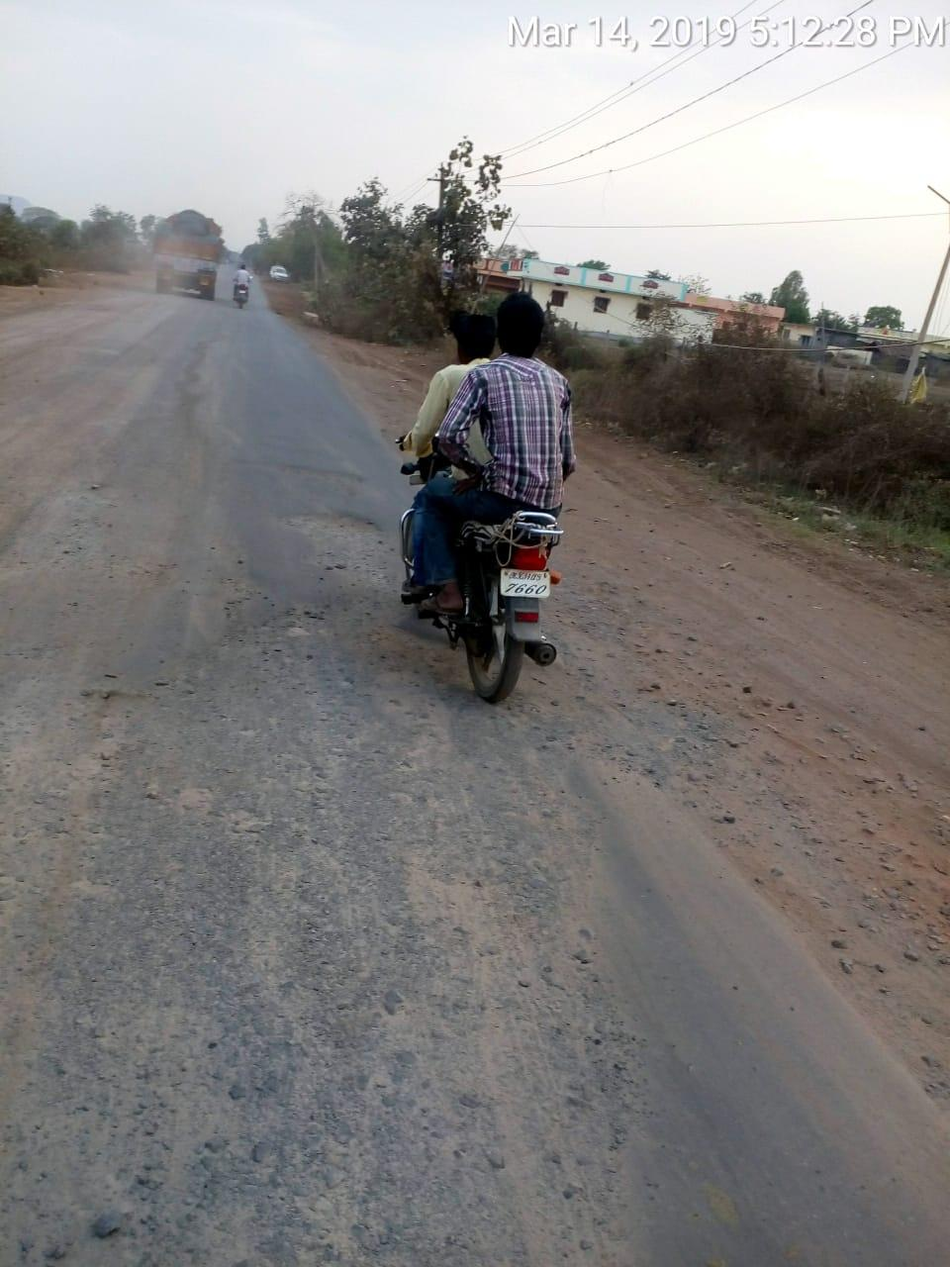plate: (494, 567, 553, 602)
